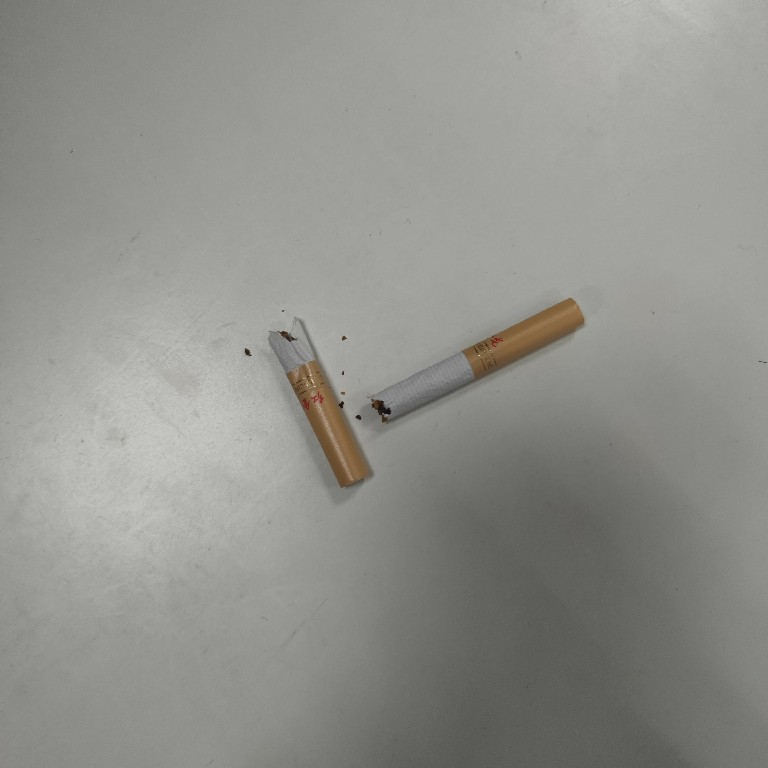cigarette: (367, 293, 589, 423), (265, 313, 377, 492)
